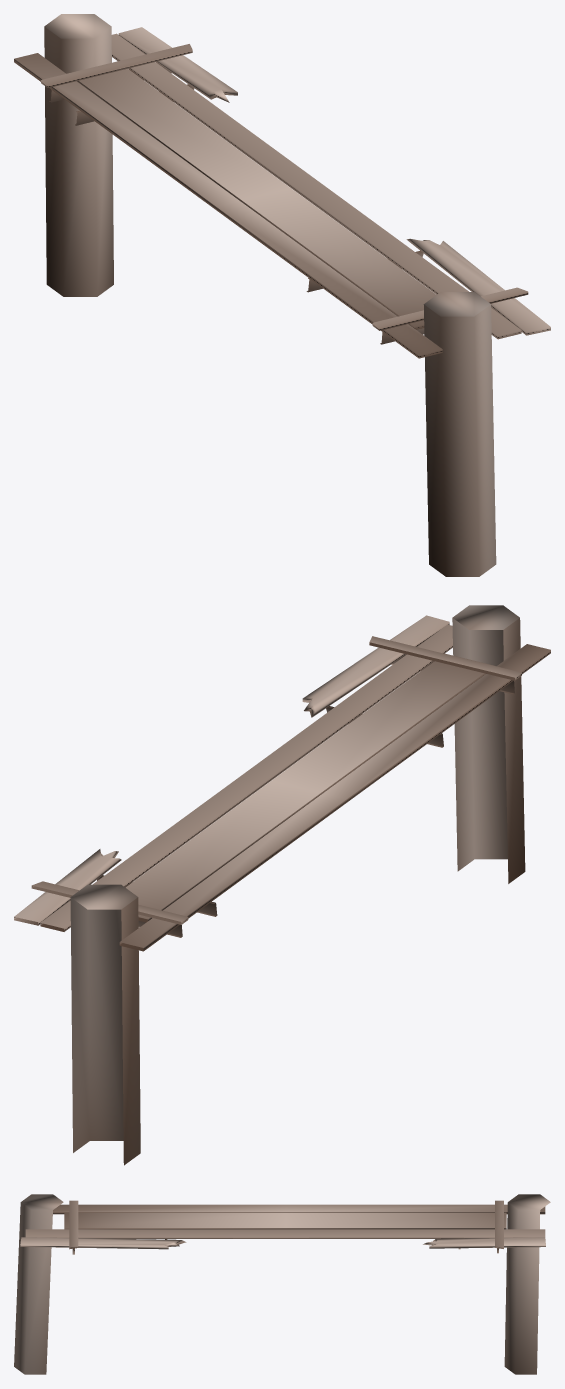
Rendered from WoodenBridge_V1.fbx.
3 views of the same model, one above another, from view 1: azimuth 30°, elevation 25°; view 2: azimuth 150°, elevation 25°; view 3: azimuth 270°, elevation 25° (orthographic). The views are drawn at different scales.
Parts seen in each view (by area): view 1: WoodenBridge_V1_01; view 2: WoodenBridge_V1_01; view 3: WoodenBridge_V1_01.
Part boxes in pixels (left/top/right/bottom): WoodenBridge_V1_01: left=14, top=14, right=550, bottom=576; WoodenBridge_V1_01: left=14, top=605, right=550, bottom=1165; WoodenBridge_V1_01: left=14, top=1194, right=550, bottom=1374.
Size of the model in its own units: 271 by 446 by 1318.
